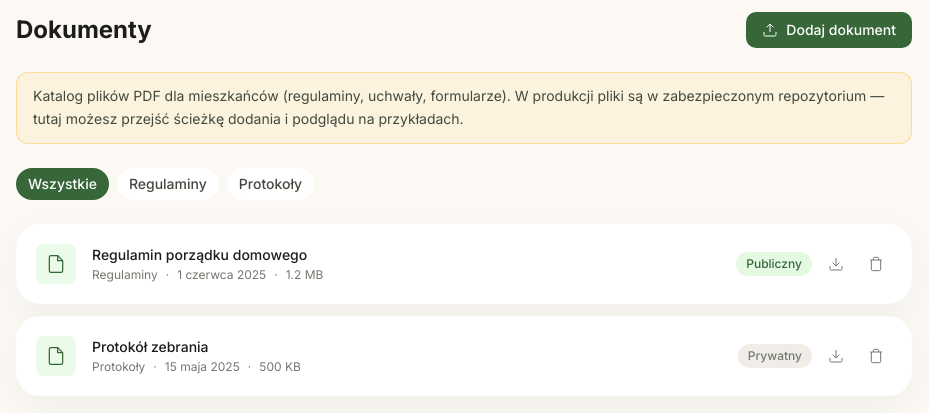
Scenario: AdminDocumentsPage › filtruje dokumenty po kategorii
Expected: the heading "Regulamin porządku domowego" is shown, [92,244,323,264]
Click the button "Regulaminy": [168, 184] box [117,168,219,200]
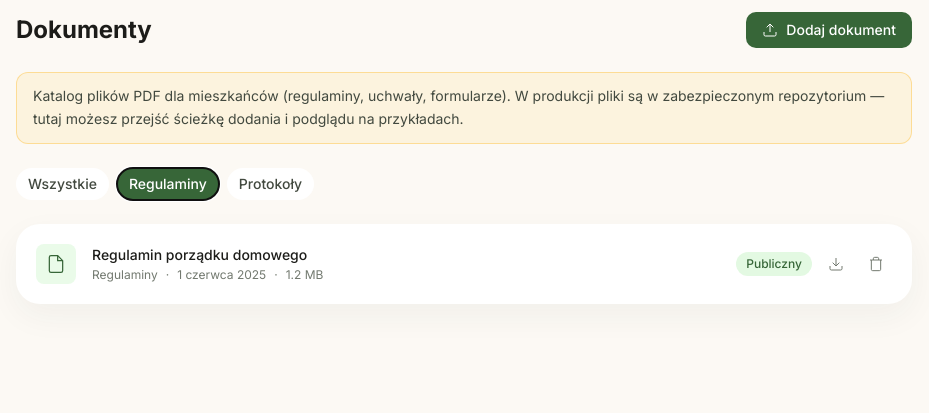
Expected: the heading "Regulamin porządku domowego" is shown, [92,244,323,264]
Now the heading "Protokół zebrania" is gone
